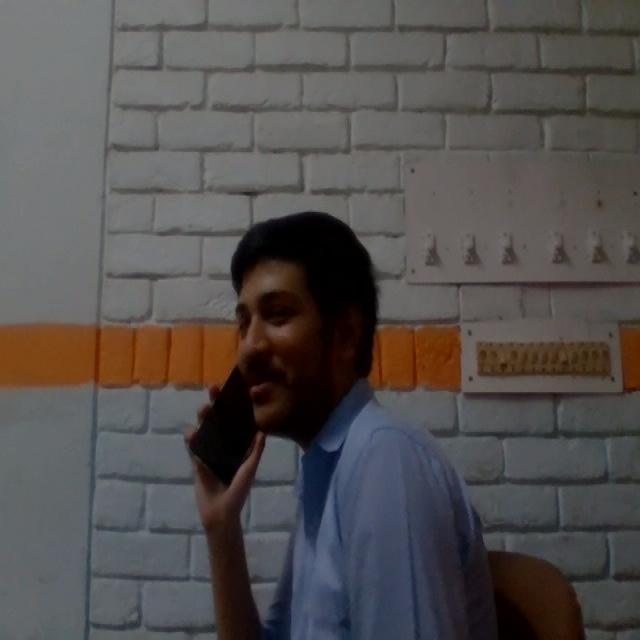oncall: (172, 204, 491, 640)
phone: (190, 356, 260, 494)
